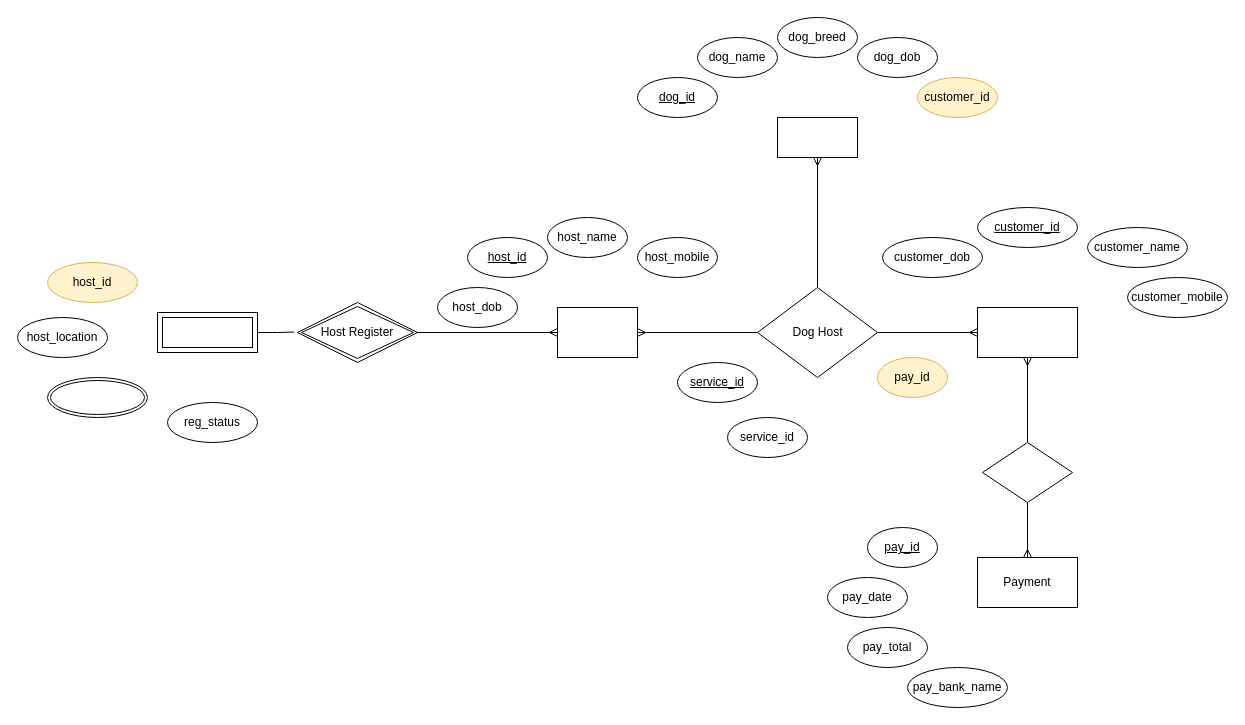
This 1245x725 diagram has some shape labels left out. Here are the shapes that lost their labels. From the top down, the centre of each, then its label:
the point at 817,137: Dog
the point at 207,332: Host Registration
the point at 597,332: Host
the point at 1027,332: Customer
the point at 97,397: available_date
the point at 1027,472: Pay
